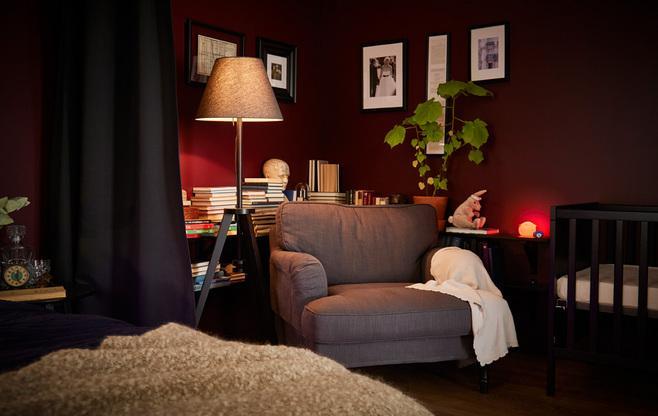灯: (199, 54, 276, 214), (517, 216, 544, 240)
